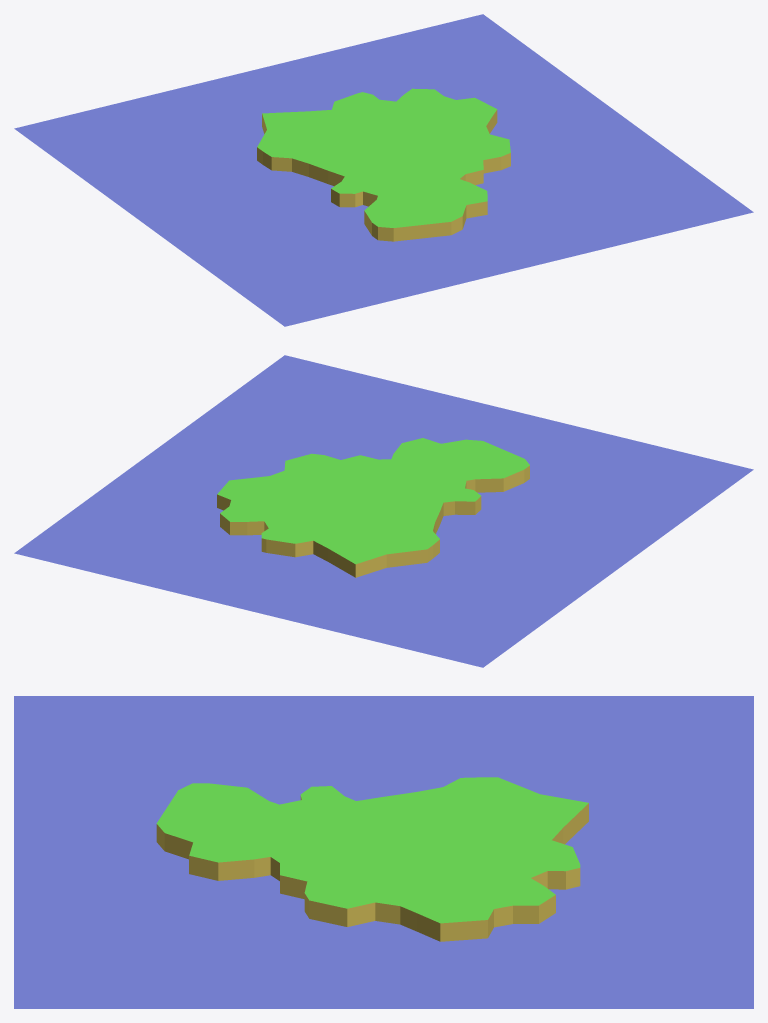
The model's file is Ilha.fbx.
3 renders of one model, top to bottom at view 1: azimuth 30°, elevation 25°; view 2: azimuth 150°, elevation 25°; view 3: azimuth 270°, elevation 25°, orthographic. The views are drawn at different scales.
Parts seen in each view (by area): view 1: Água, Terra; view 2: Água, Terra; view 3: Água, Terra.
Part boxes in pixels (<box>): Água: <box>14,14,753,326</box>; Terra: <box>257,88,510,241</box>; Água: <box>14,355,753,667</box>; Terra: <box>217,438,529,577</box>; Água: <box>14,696,753,1008</box>; Terra: <box>156,777,588,941</box>.
Bounding box in the file's own units: 6265 × 281 × 6265.
